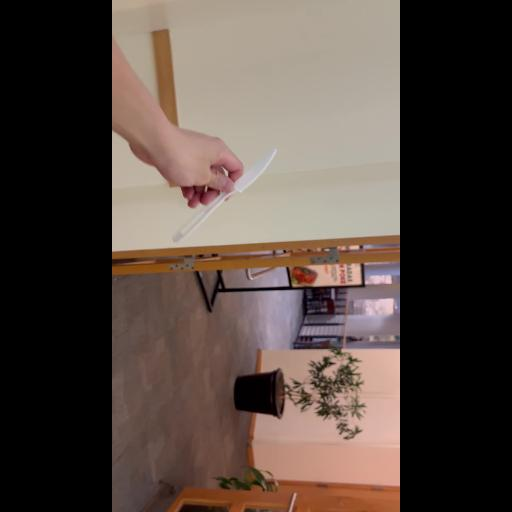utensil: (165, 138, 285, 266)
